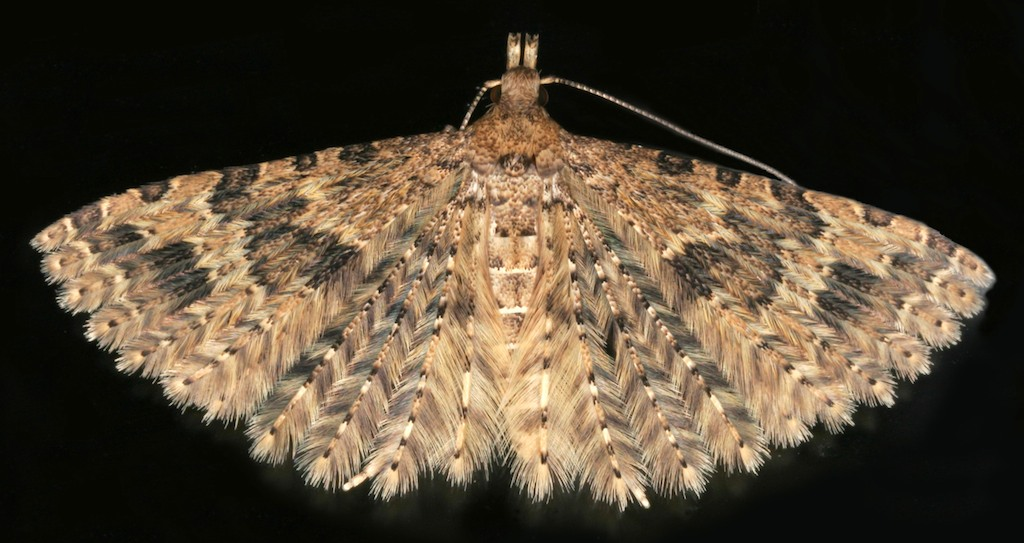Alucitidae: (25, 16, 1000, 518)
moth: (23, 14, 998, 516)
